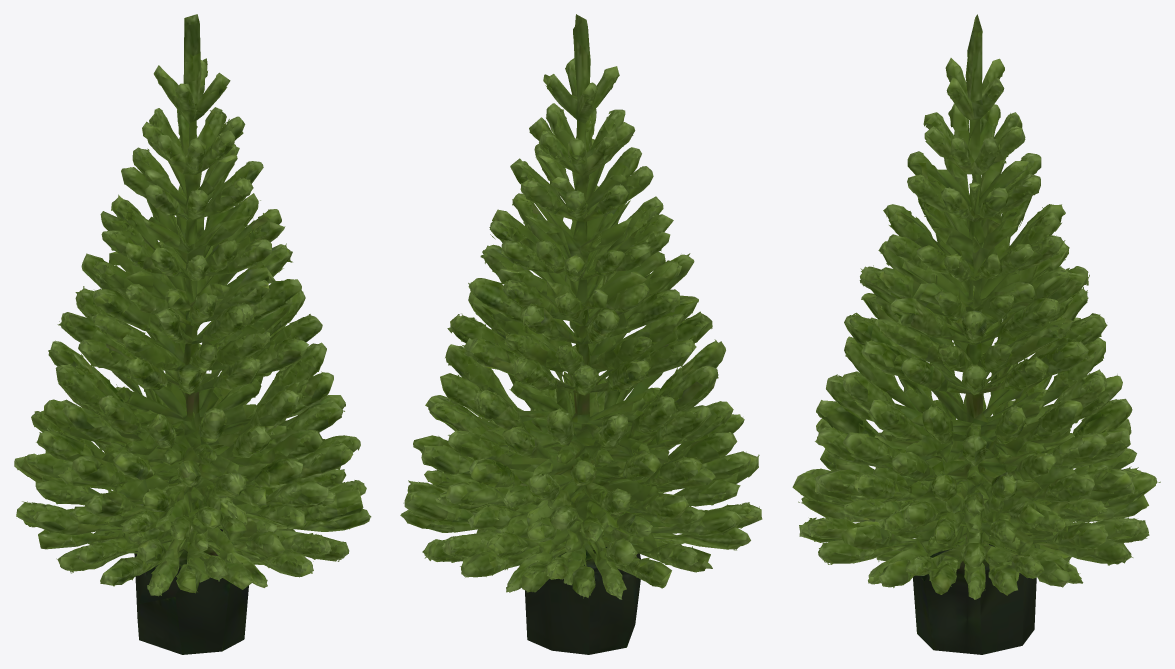
The model's file is s1_pine_tree.glb.
3 views of the same model, side by side, from view 1: azimuth 30°, elevation 25°; view 2: azimuth 150°, elevation 25°; view 3: azimuth 270°, elevation 25° (orthographic).
Visible parts, largest first — view 1: mesh_node; view 2: mesh_node; view 3: mesh_node.
Boxes of the visible parts, bbox=[...] form: mesh_node: bbox=[14, 14, 371, 654]; mesh_node: bbox=[400, 14, 762, 654]; mesh_node: bbox=[792, 14, 1160, 654].
Size of the model in its own units: 1.01 by 1.89 by 1.02.
Materials: 1 (1 with a texture image).
